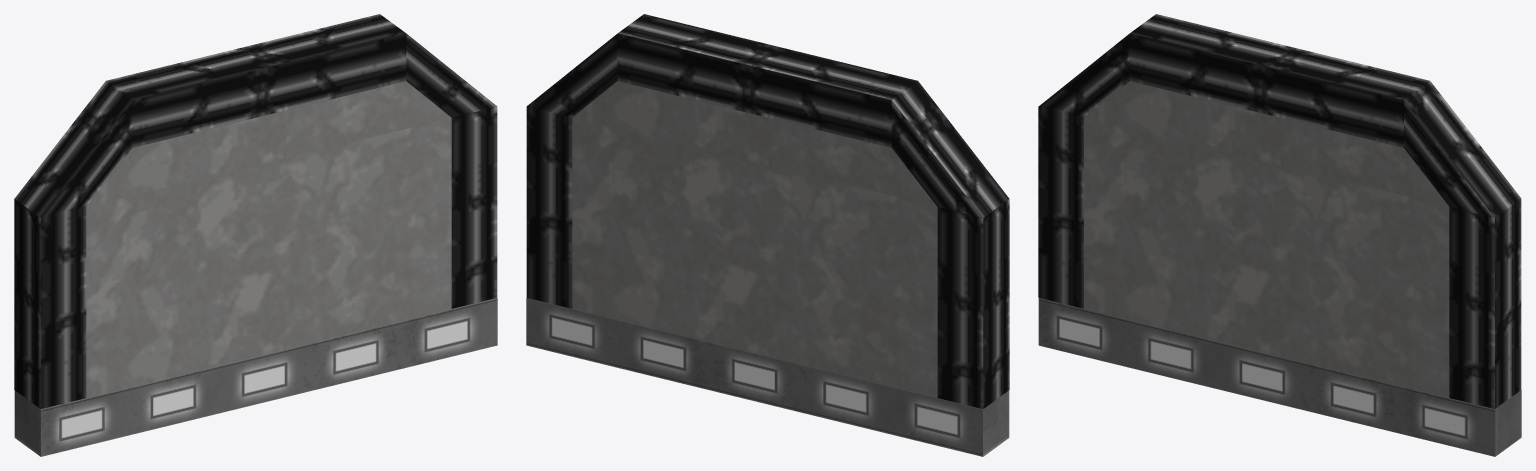
File: barrier (lights).obj
The picture shows the model from 3 angles, left to right: view 1: azimuth 30°, elevation 25°; view 2: azimuth 150°, elevation 25°; view 3: azimuth 330°, elevation 25°; orthographic projection.
Visible parts, largest first — view 1: barrier (lights); view 2: barrier (lights); view 3: barrier (lights).
Part boxes in pixels (box(x1,y1,x2,y2)): barrier (lights): box(14, 14, 497, 456); barrier (lights): box(526, 14, 1009, 456); barrier (lights): box(1038, 14, 1521, 456).
Size of the model in its own units: 5 by 3.5 by 0.5001.
